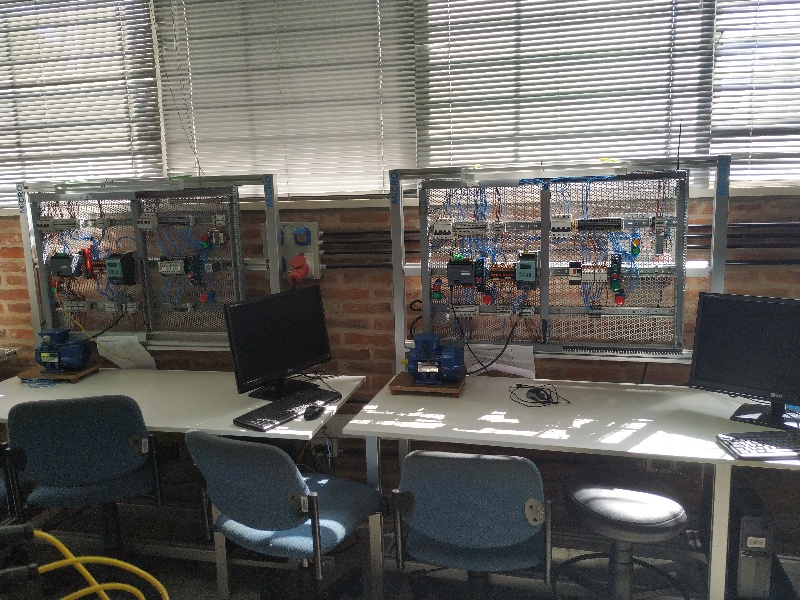Tablero 1: (20, 186, 250, 339)
Tablero 2: (417, 179, 686, 351)
